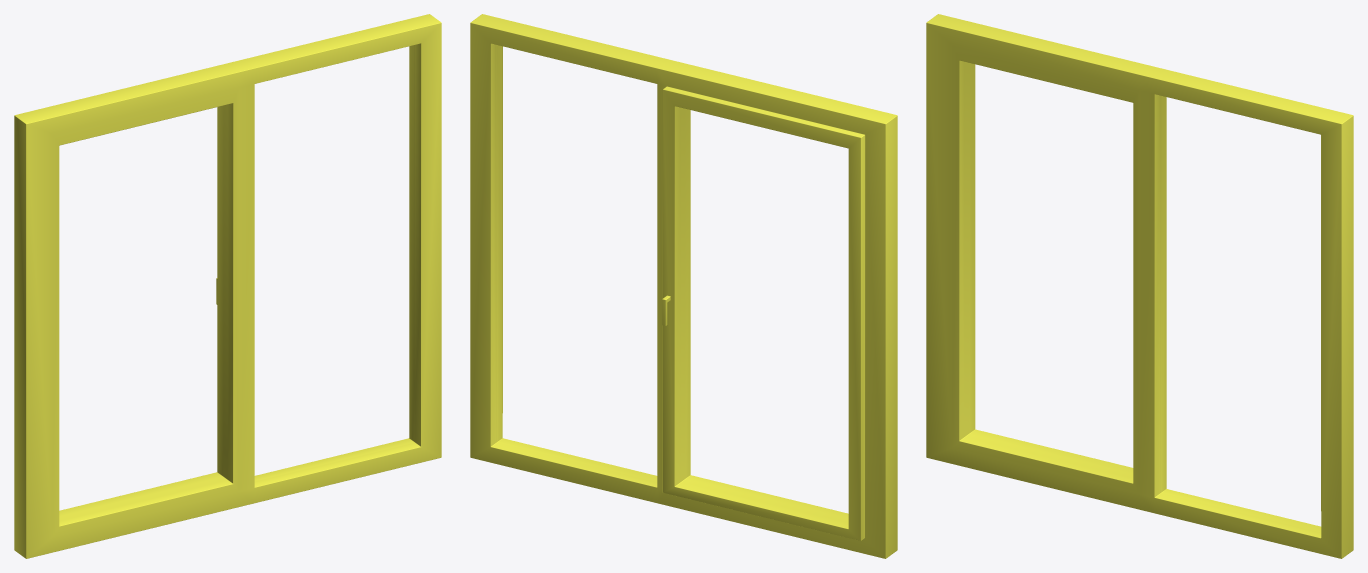
File: windows.fbx
3 renders of one model, left to right at view 1: azimuth 30°, elevation 25°; view 2: azimuth 150°, elevation 25°; view 3: azimuth 330°, elevation 25°, orthographic.
Visible parts, largest first — view 1: Windows_Plastick_LOD0; view 2: Windows_Plastick_LOD0; view 3: Windows_Plastick_LOD0.
Boxes of the visible parts, x1,y1,x2,y2 form: Windows_Plastick_LOD0: (14,14,441,558); Windows_Plastick_LOD0: (470,14,897,558); Windows_Plastick_LOD0: (926,14,1353,558).
Size of the model in its own units: 300 by 300 by 26.22.
